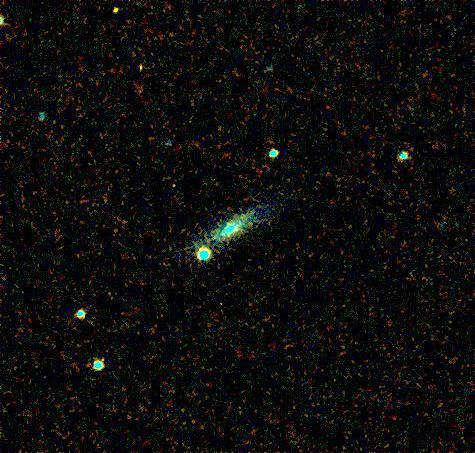star: (102, 0, 132, 30)
